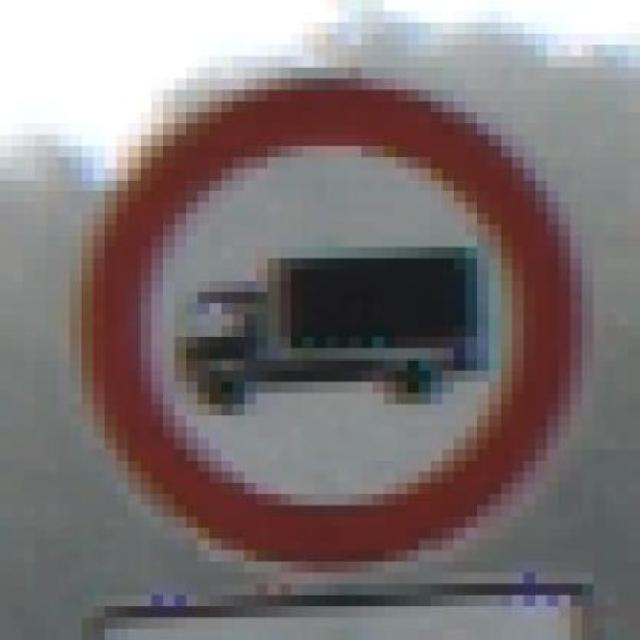Truck traffic is prohibited: (69, 78, 617, 572)
